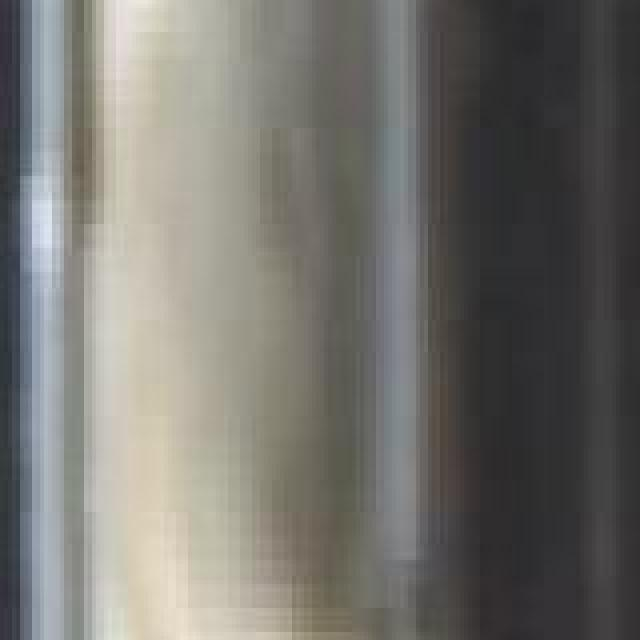diode: (384, 0, 640, 640)
